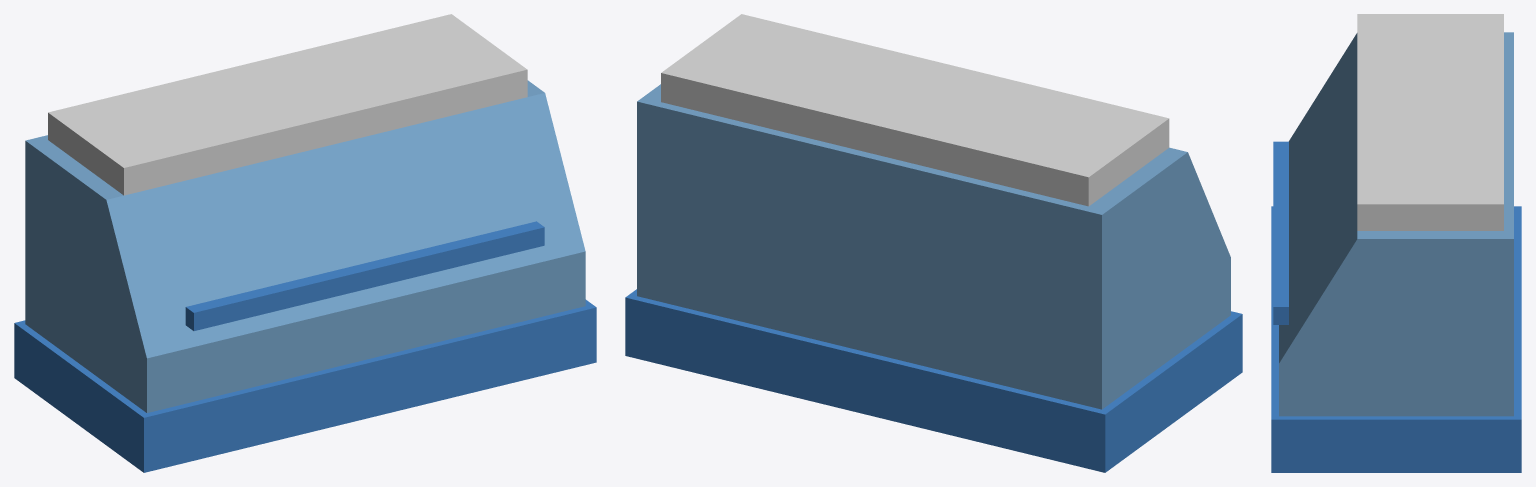
The model's file is barrierA.glb.
The picture shows the model from 3 angles, left to right: view 1: azimuth 30°, elevation 25°; view 2: azimuth 150°, elevation 25°; view 3: azimuth 270°, elevation 25°; orthographic projection. The views are drawn at different scales.
Parts seen in each view (by area): view 1: snowPeak-barrierA; view 2: snowPeak-barrierA; view 3: snowPeak-barrierA.
Boxes of the visible parts, bbox=[...] form: snowPeak-barrierA: bbox=[14, 14, 596, 472]; snowPeak-barrierA: bbox=[625, 14, 1242, 472]; snowPeak-barrierA: bbox=[1271, 14, 1521, 472].
Size of the model in its own units: 0.258 by 0.145 by 0.128.
